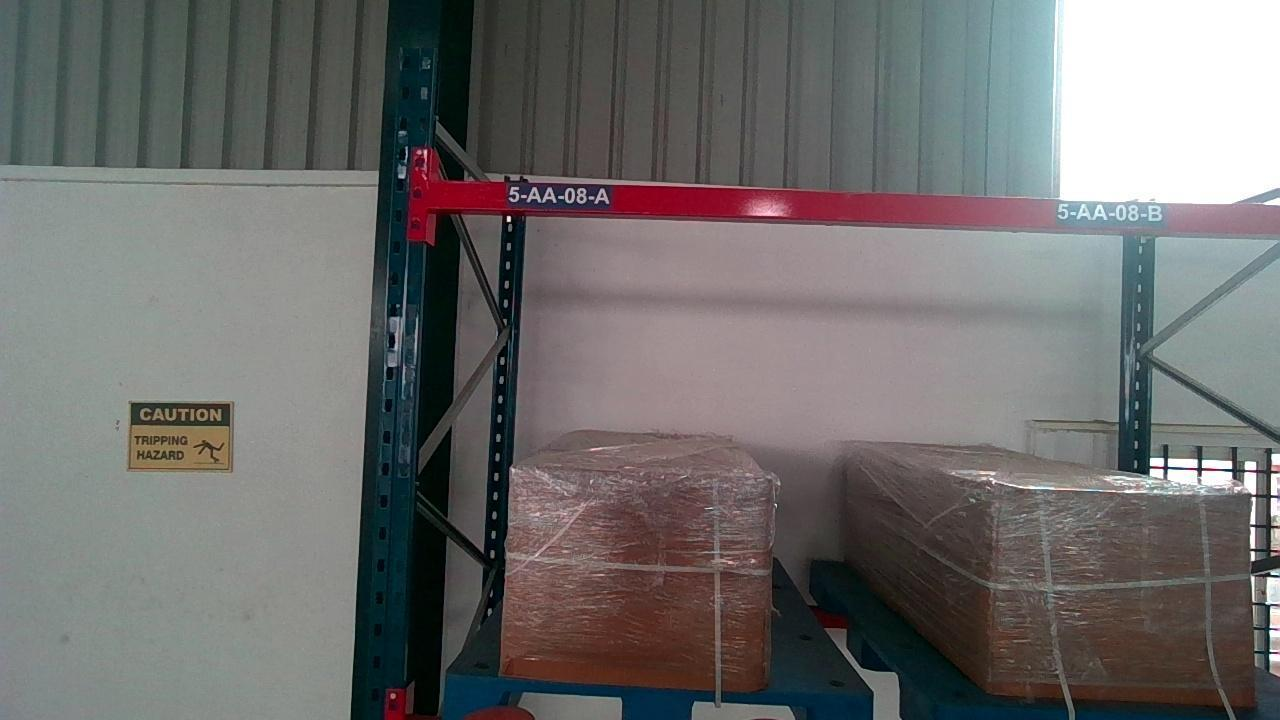h_rack: (430, 185, 1204, 228), (1043, 198, 1280, 227)
small_pallet: (448, 684, 860, 720)
